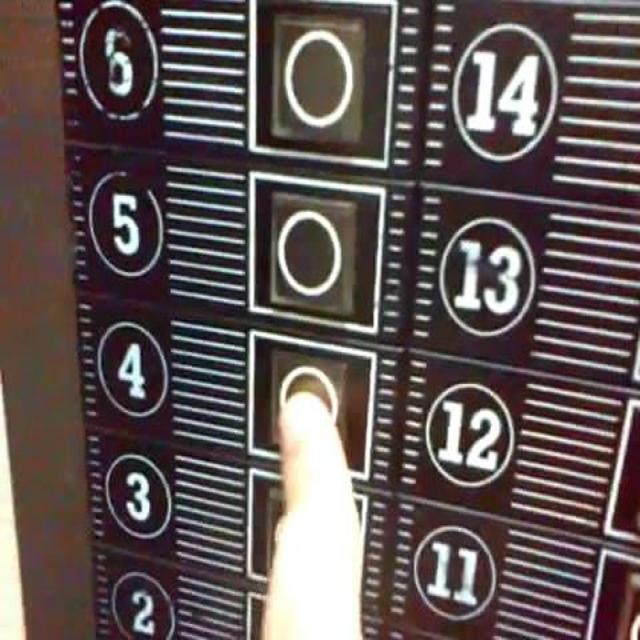11: (409, 519, 496, 621)
12: (421, 374, 515, 494)
13: (433, 207, 537, 337)
14: (447, 8, 561, 165)
2: (106, 566, 176, 638)
3: (100, 447, 173, 541)
4: (91, 313, 172, 423)
5: (82, 161, 167, 280)
6: (73, 0, 161, 123)
empty: (262, 8, 371, 153), (260, 183, 362, 324)
